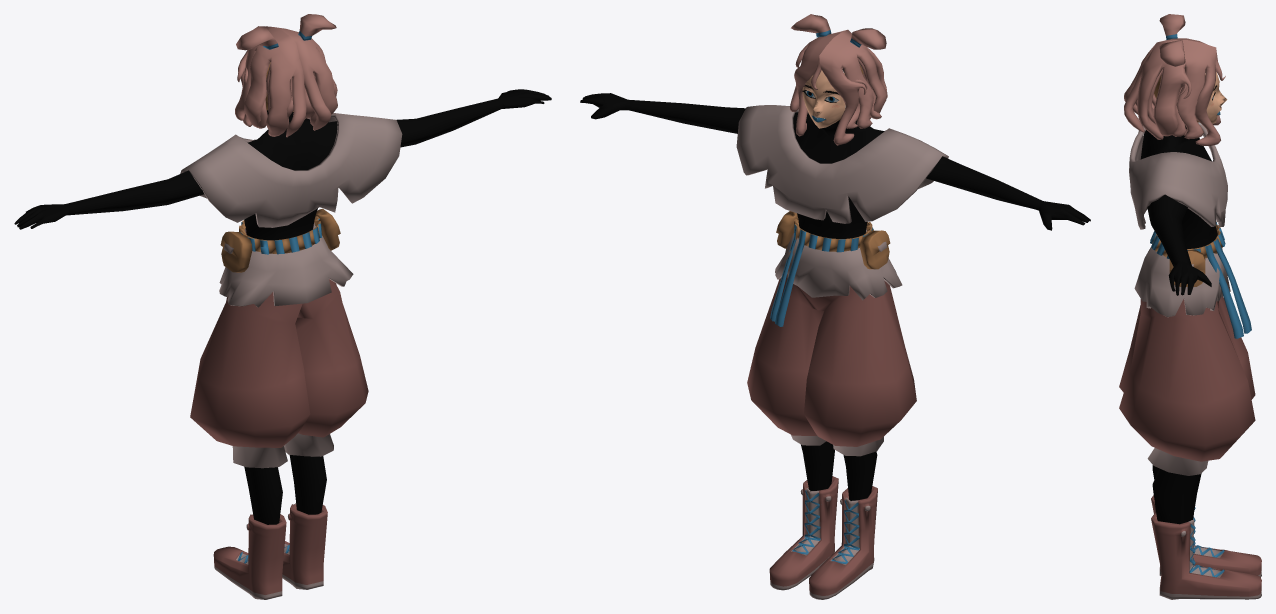
The model's file is mainchara_sub_smooth_notrigged.fbx.
The picture shows the model from 3 angles, left to right: view 1: azimuth 30°, elevation 25°; view 2: azimuth 150°, elevation 25°; view 3: azimuth 270°, elevation 25°; orthographic projection. The views are drawn at different scales.
Visible parts, largest first — view 1: femBase.005, femBase, Plane.007, Cube, femBase.003, femBase.006, Cube.002, Cube.001, Cylinder.001, Cube.004; view 2: femBase.005, femBase, Plane.007, femBase.003, Cube, femBase.006, Cylinder.001, Cube.002, Cube.001, femBase.007; view 3: femBase.005, femBase, Cube, femBase.003, Plane.007, femBase.006, Cylinder.001, Cube.001, Cube.004, femBase.007, Cube.002.
Boxes of the visible parts, <box> form: femBase.005: <box>190,222,368,468</box>; femBase: <box>14,62,551,524</box>; Plane.007: <box>180,113,402,227</box>; Cube: <box>235,26,337,137</box>; femBase.003: <box>213,503,327,599</box>; femBase.006: <box>219,223,353,307</box>; Cube.002: <box>220,208,340,272</box>; Cube.001: <box>236,14,336,50</box>; Cylinder.001: <box>239,216,321,254</box>; Cube.004: <box>244,62,314,128</box>; femBase.005: <box>747,274,916,456</box>; femBase: <box>580,65,1090,500</box>; Plane.007: <box>736,105,948,223</box>; femBase.003: <box>769,476,877,599</box>; Cube: <box>790,29,887,145</box>; femBase.006: <box>775,229,902,300</box>; Cylinder.001: <box>770,216,873,326</box>; Cube.002: <box>776,211,890,269</box>; Cube.001: <box>791,14,886,49</box>; femBase.007: <box>792,490,859,563</box>; femBase.005: <box>1119,296,1255,475</box>; femBase: <box>1140,72,1227,524</box>; Cube: <box>1124,38,1225,145</box>; femBase.003: <box>1151,495,1261,599</box>; Plane.007: <box>1129,123,1227,229</box>; femBase.006: <box>1134,247,1230,317</box>; Cylinder.001: <box>1150,221,1251,338</box>; Cube.001: <box>1159,14,1185,66</box>; Cube.004: <box>1135,67,1187,136</box>; femBase.007: <box>1189,507,1224,577</box>; Cube.002: <box>1169,250,1205,286</box>.
Bounding box in the file's own units: 147 × 150 × 34.92.
